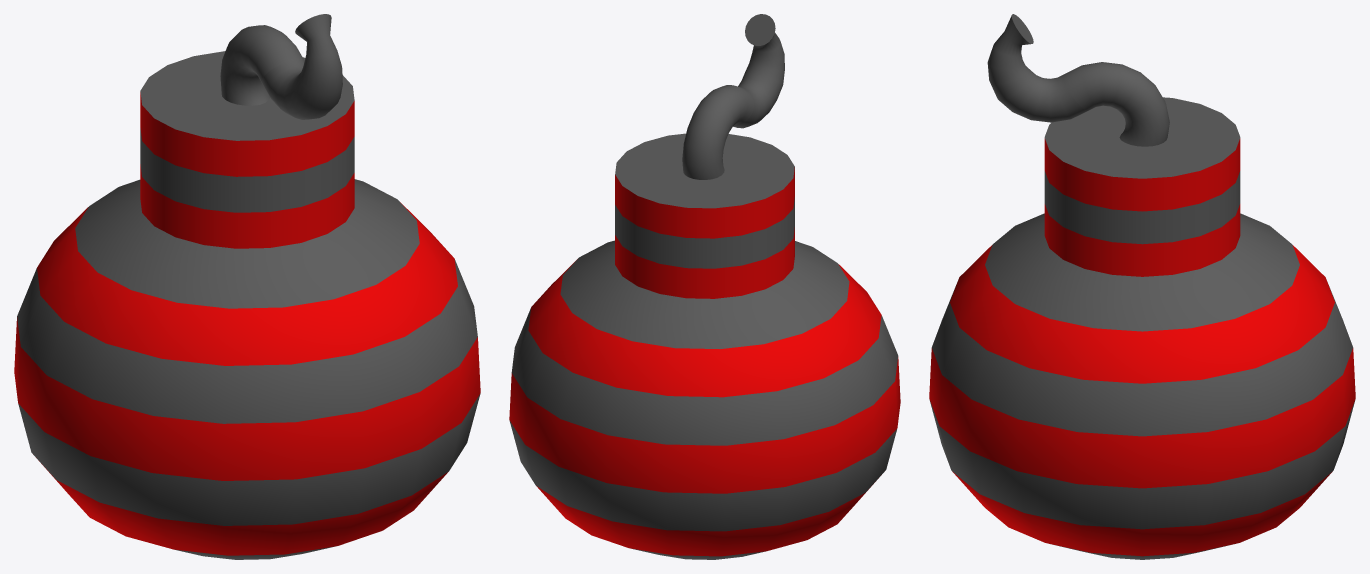
Rendered from bombstripy.fbx.
The picture shows the model from 3 angles, left to right: view 1: azimuth 30°, elevation 25°; view 2: azimuth 150°, elevation 25°; view 3: azimuth 270°, elevation 25°; orthographic projection. The views are drawn at different scales.
Visible parts, largest first — view 1: pCylinder3; view 2: pCylinder3; view 3: pCylinder3.
Boxes of the visible parts, x1=… form: pCylinder3: x1=14, y1=14, x2=480, y2=559; pCylinder3: x1=509, y1=14, x2=900, y2=559; pCylinder3: x1=929, y1=14, x2=1355, y2=559.
Size of the model in its own units: 1.61 by 2.16 by 1.61.
